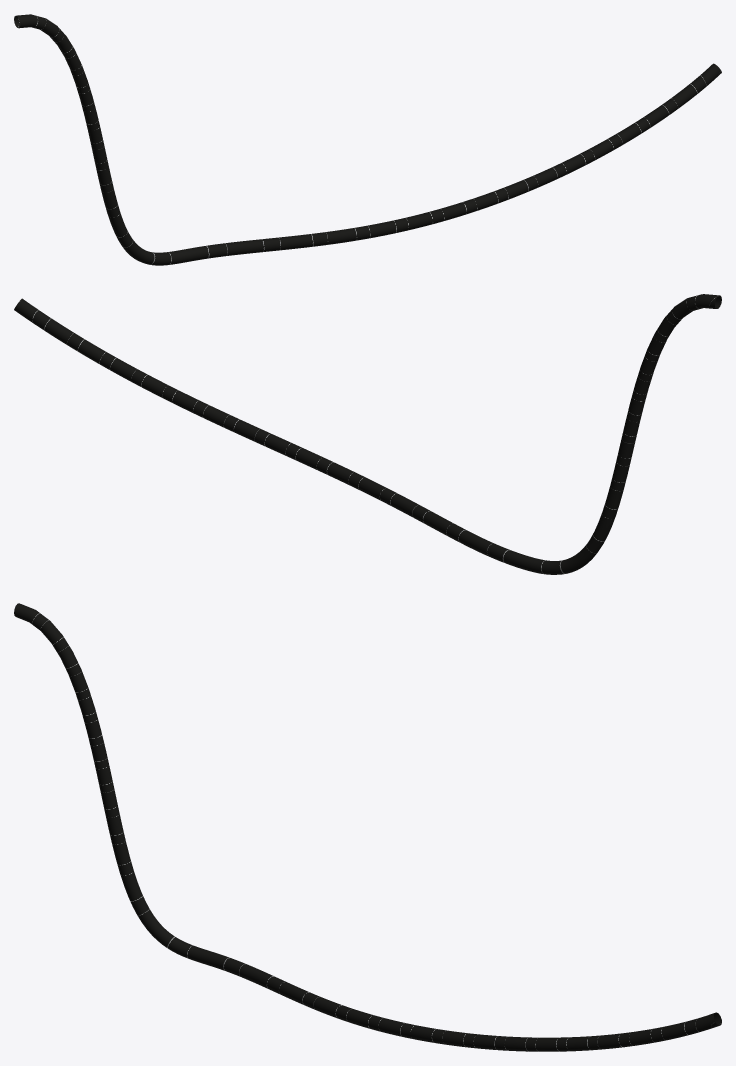
File: cable_r_2.glb
3 views of the same model, one above another, from view 1: azimuth 30°, elevation 25°; view 2: azimuth 150°, elevation 25°; view 3: azimuth 330°, elevation 25° (orthographic). The views are drawn at different scales.
Visible parts, largest first — view 1: NurbsPath.007; view 2: NurbsPath.007; view 3: NurbsPath.007.
Boxes of the visible parts, bbox=[...] form: NurbsPath.007: bbox=[14, 14, 721, 265]; NurbsPath.007: bbox=[14, 294, 721, 574]; NurbsPath.007: bbox=[14, 603, 721, 1051].
Bounding box in the file's own units: 7.58 × 3.12 × 0.8841.
1 material, 1 textured.
